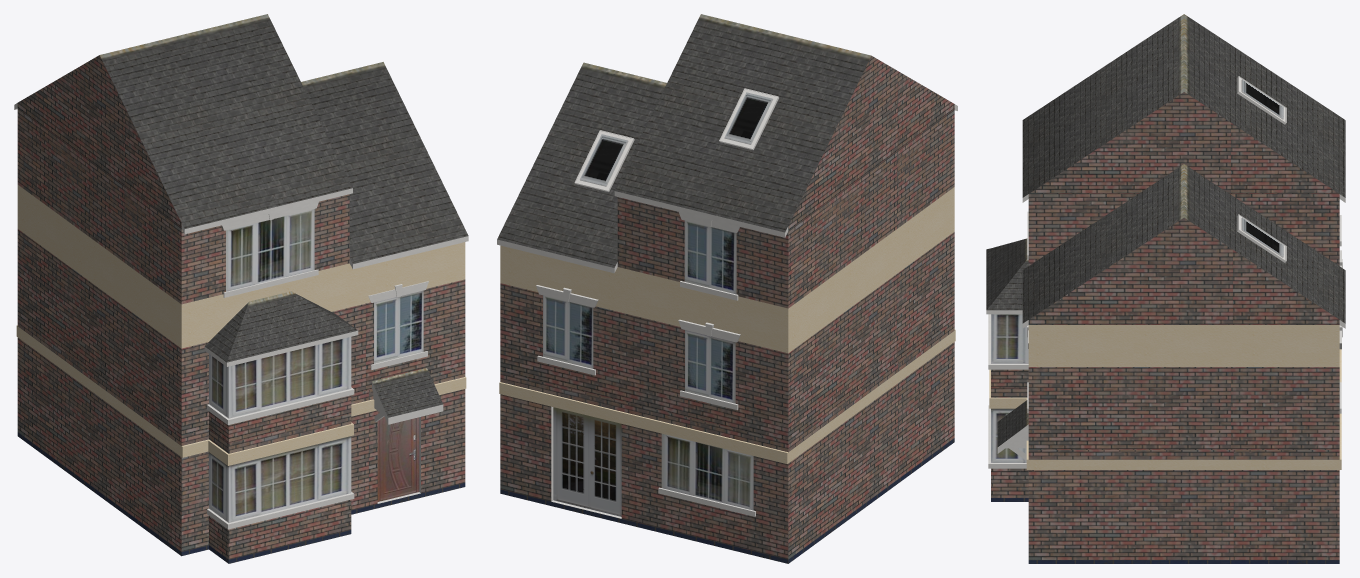
The model's file is modernterrace3story2.FBX.
3 renders of one model, left to right at view 1: azimuth 30°, elevation 25°; view 2: azimuth 150°, elevation 25°; view 3: azimuth 270°, elevation 25°, orthographic. The views are drawn at different scales.
Visible parts, largest first — view 1: Box001; view 2: Box001; view 3: Box001.
Part boxes in pixels (left/top/right/bottom): Box001: left=14, top=14, right=468, bottom=563; Box001: left=497, top=14, right=957, bottom=563; Box001: left=986, top=14, right=1345, bottom=563.
Bounding box in the file's own units: 800 × 1188 × 925.
